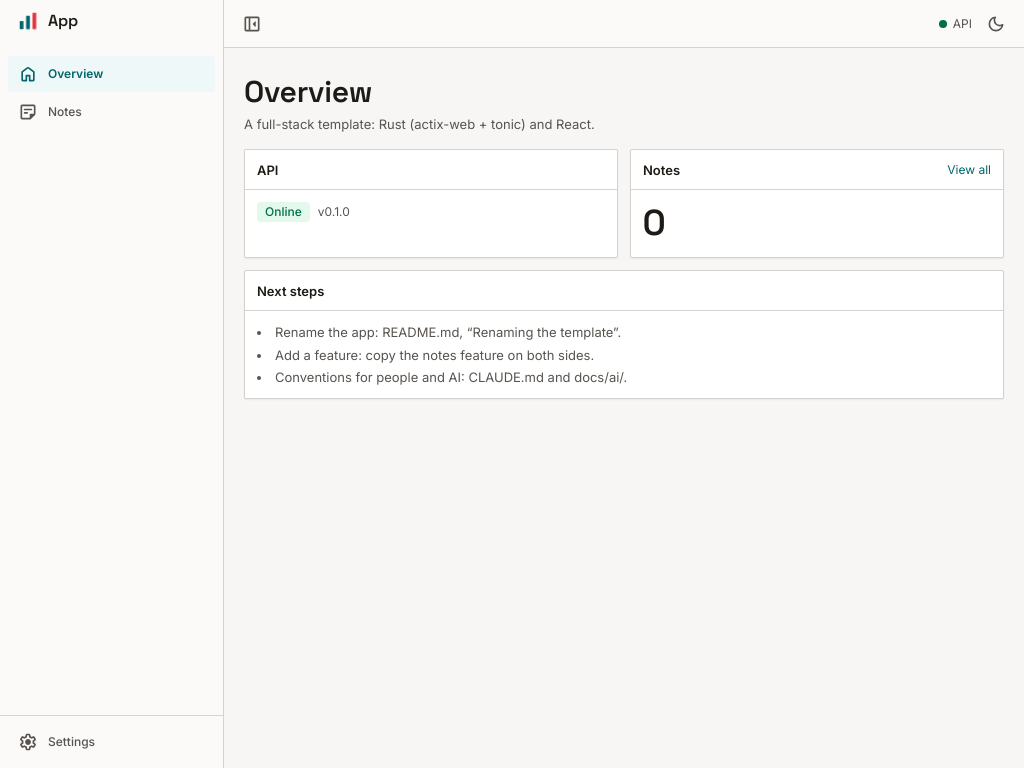
Test case: app shell › collapses the sidebar to a rail and keeps link names
The width and height of the screenshot is (1024, 768).
What coordinates should you click on to do the following:
click the button named "Collapse sidebar"
I would click on:
 (252, 24)
Its box is [236,8,268,40].
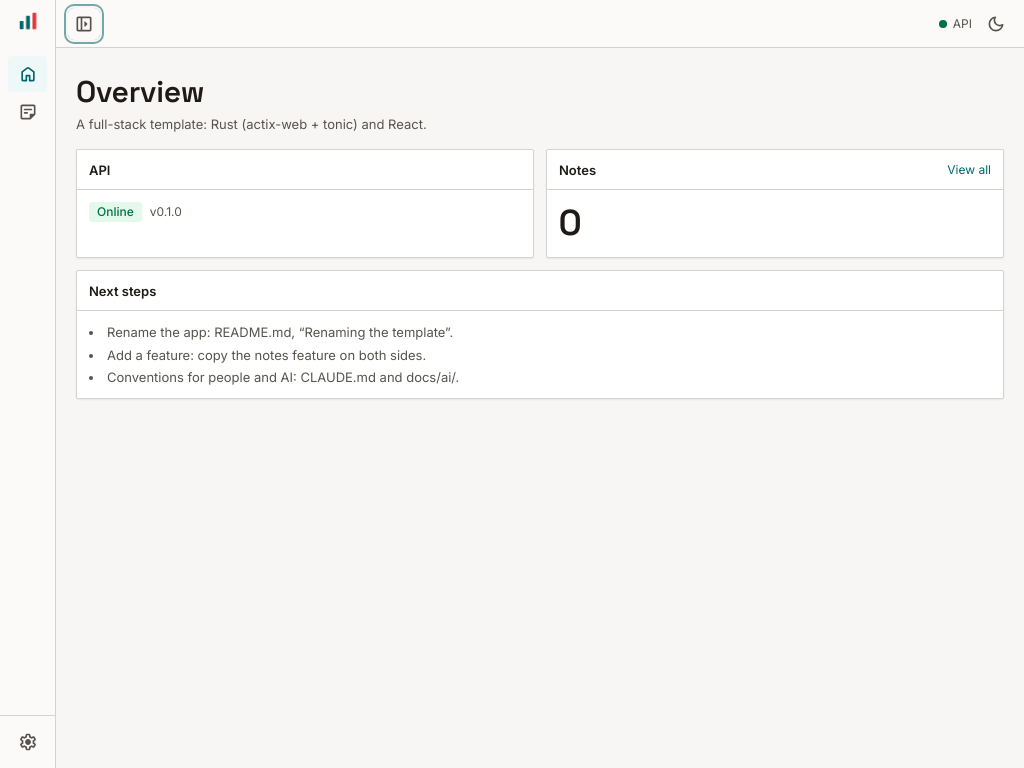
Check: the element named "Sidebar" has attribute data-collapsed, box [0,0,56,767]
What coordinates should you click on to do the following:
click the button named "Expand sidebar"
I would click on:
 (84, 24)
Its box is [68,8,100,40].
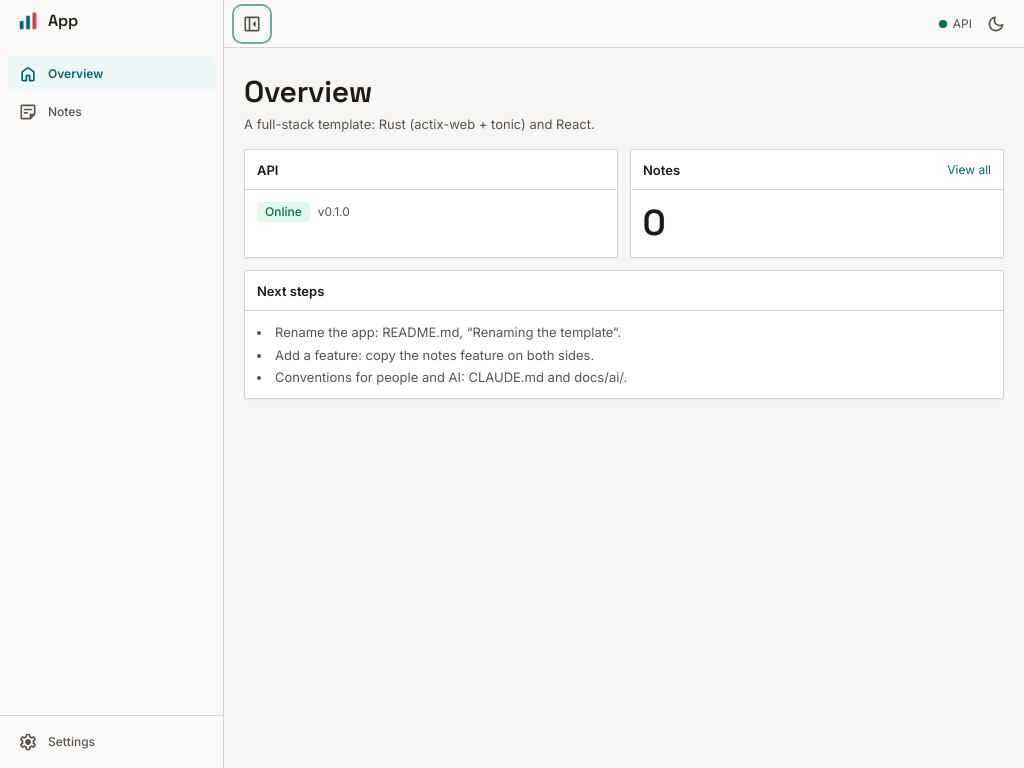
Check: the element named "Sidebar" does not have attribute data-collapsed, box [0,0,224,767]
